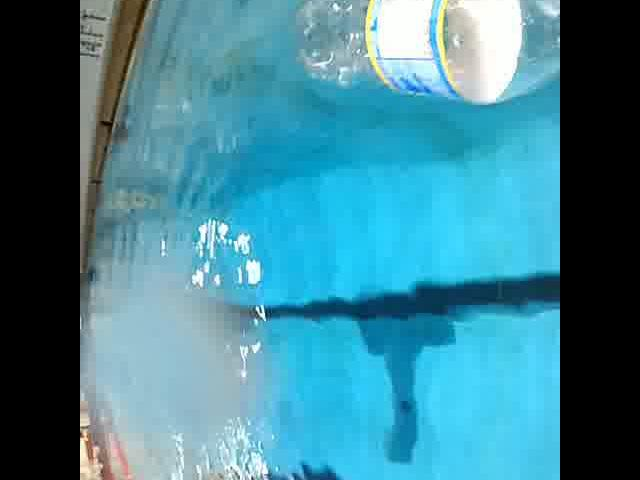Bottle: (289, 0, 560, 114)
